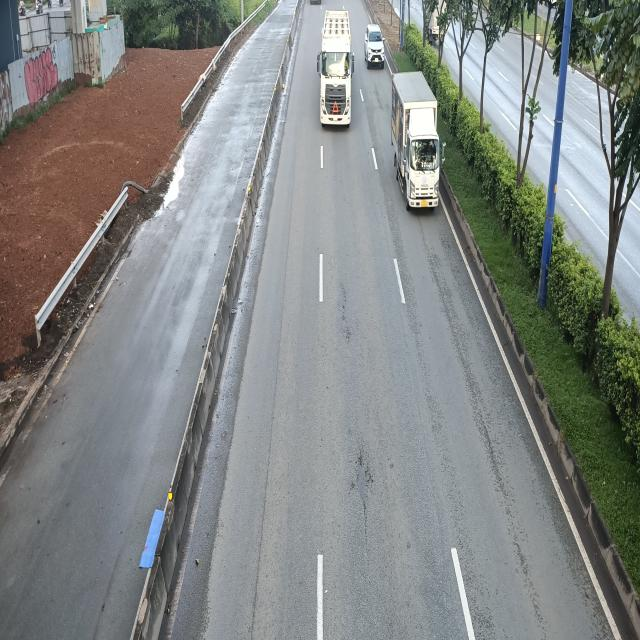car: (365, 22, 387, 68)
container: (320, 11, 356, 128)
truck: (390, 73, 446, 215)
